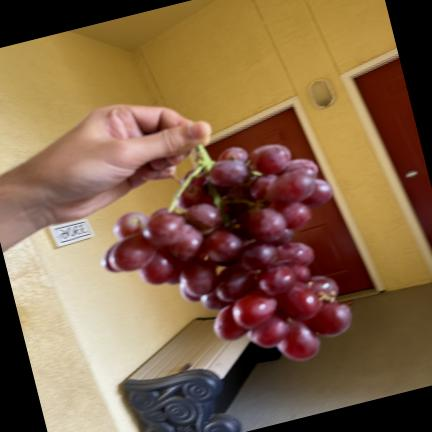grape_cluster: (101, 144, 351, 360)
